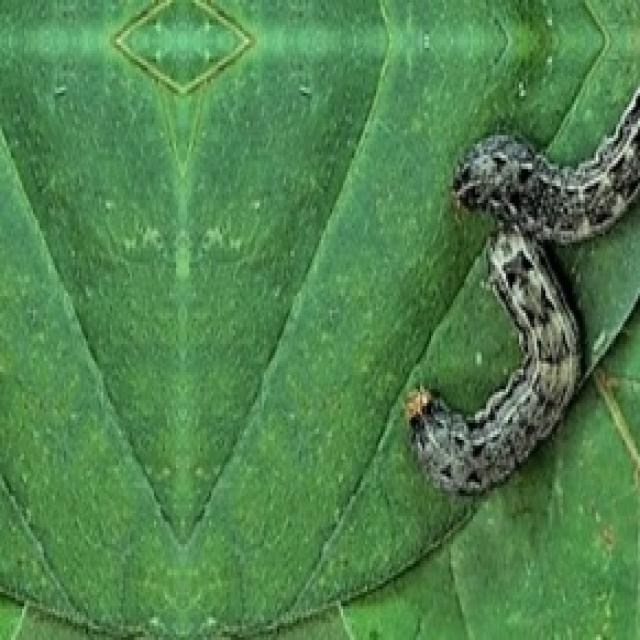armyworm: (402, 0, 638, 499)
